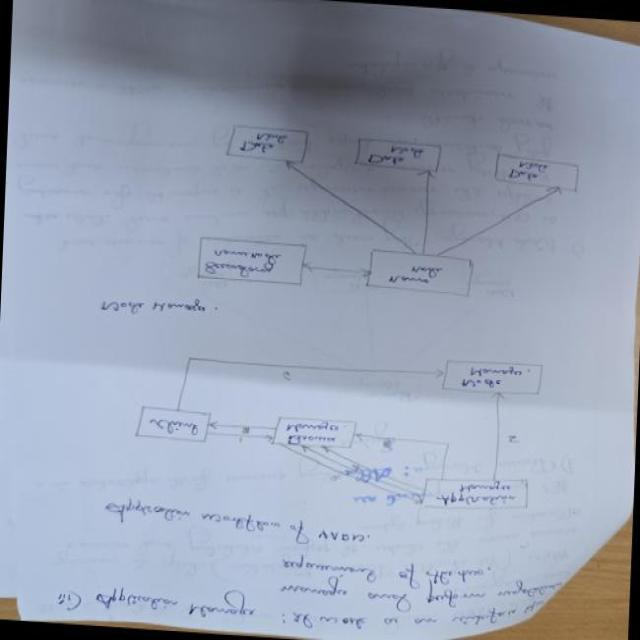Figure Detection - v3 Dataset Version2: (102, 321, 571, 524), (171, 112, 594, 314)
